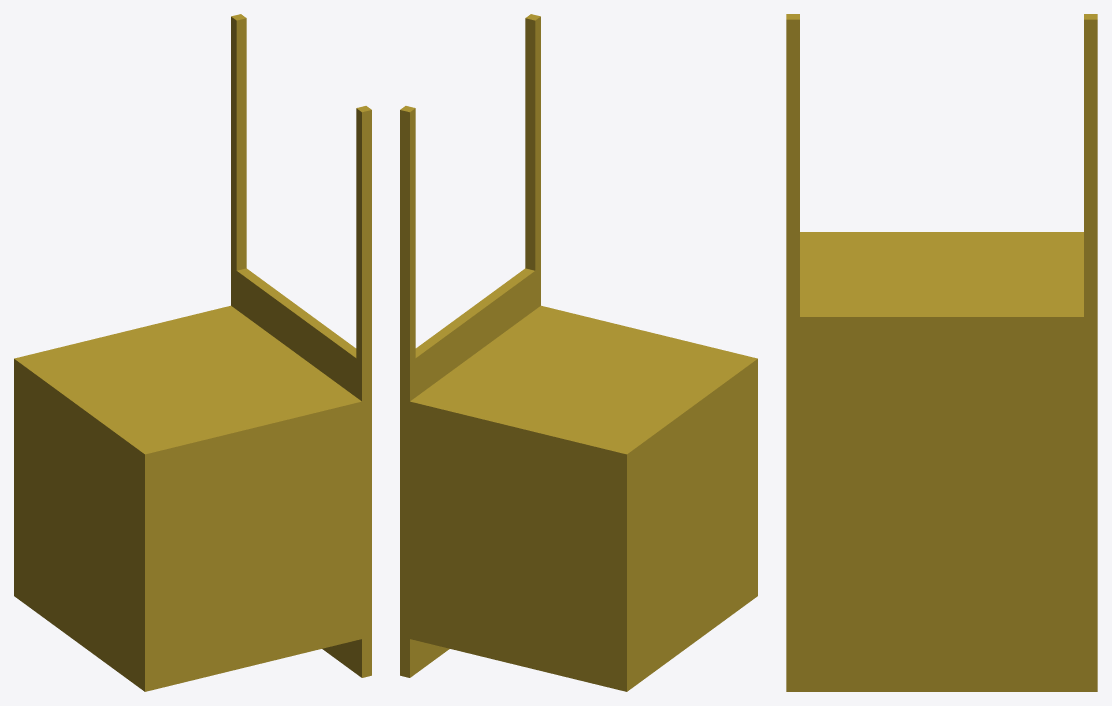
Rendered from rot5_bridge.gltf.
The picture shows the model from 3 angles, left to right: view 1: azimuth 30°, elevation 25°; view 2: azimuth 150°, elevation 25°; view 3: azimuth 270°, elevation 25°; orthographic projection. The views are drawn at different scales.
Parts seen in each view (by area): view 1: rot5.bridge; view 2: rot5.bridge; view 3: rot5.bridge.
Part boxes in pixels (box(x1,y1,x2,y2)): rot5.bridge: box(14, 14, 371, 691); rot5.bridge: box(400, 14, 757, 691); rot5.bridge: box(786, 14, 1097, 691).
Bounding box in the file's own units: 4.56 × 10.86 × 4.56.
